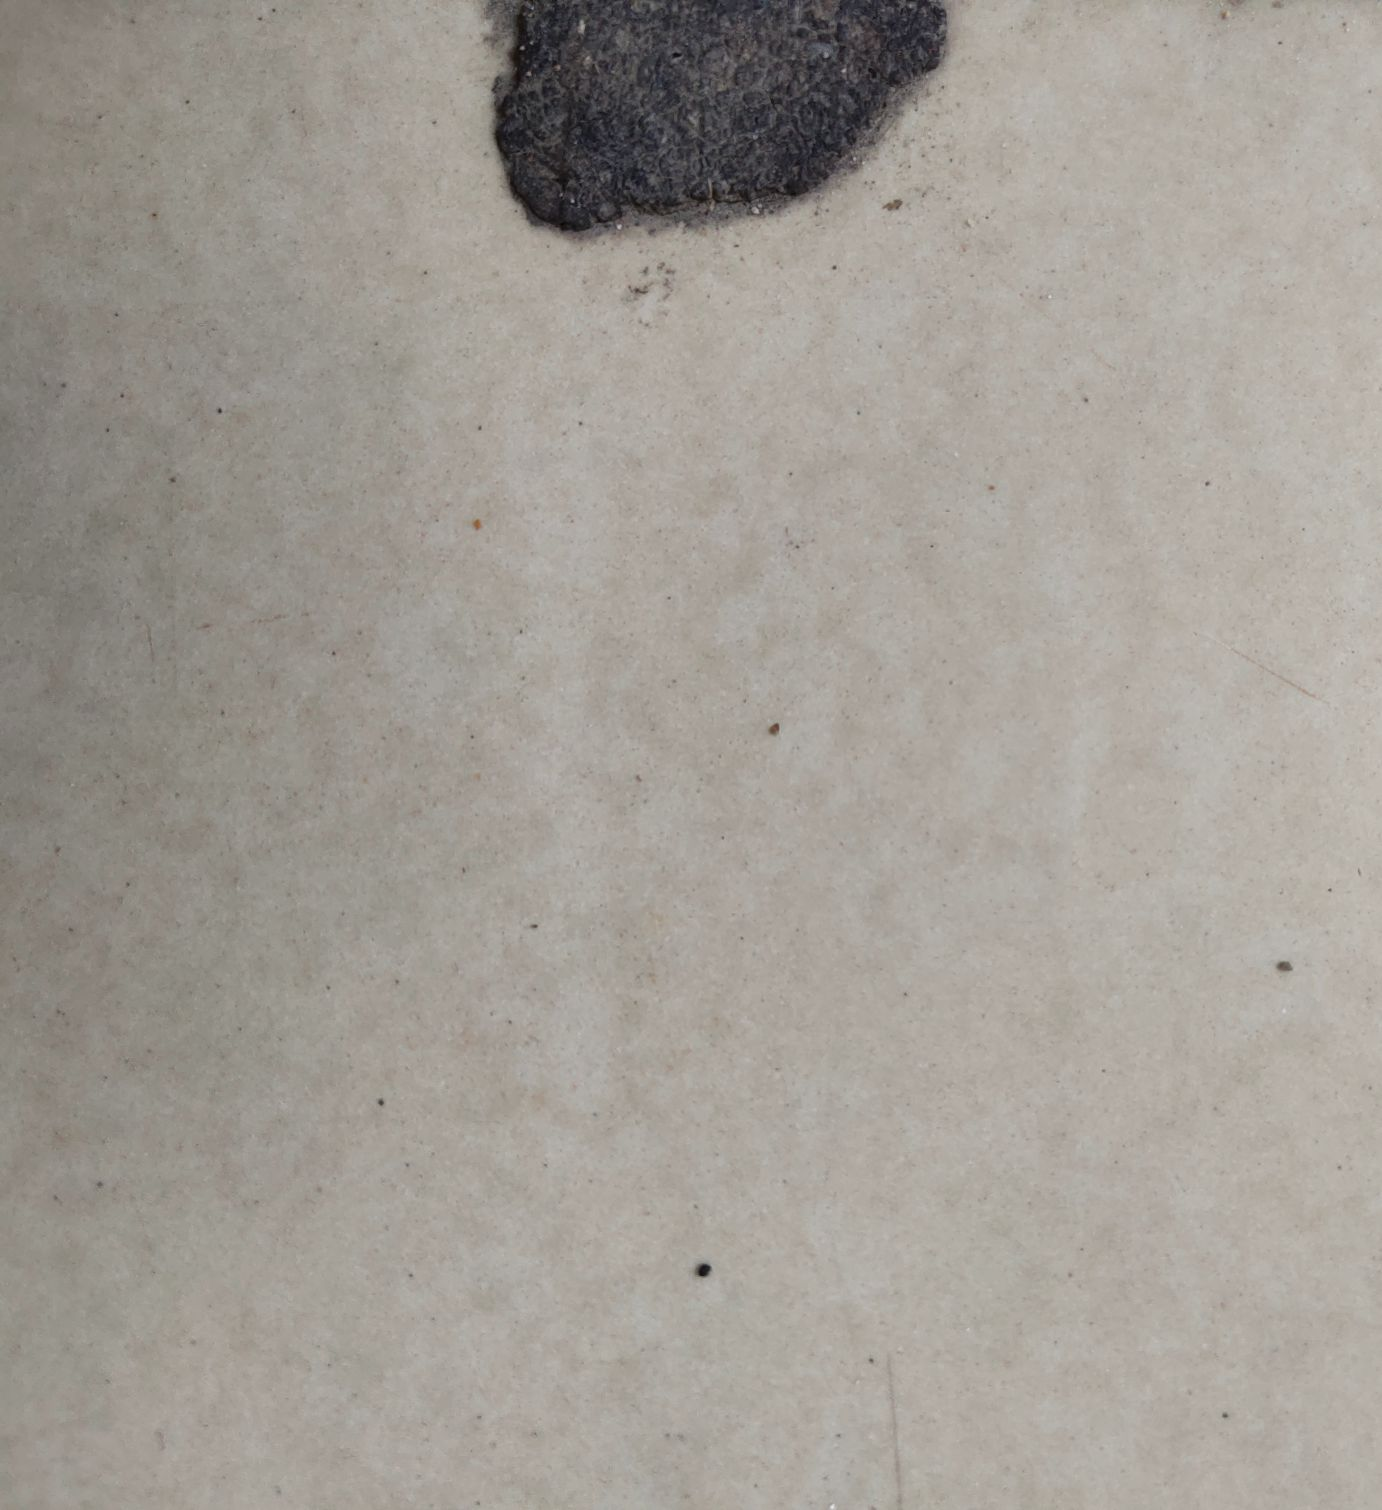grey spot: (480, 3, 953, 242)
